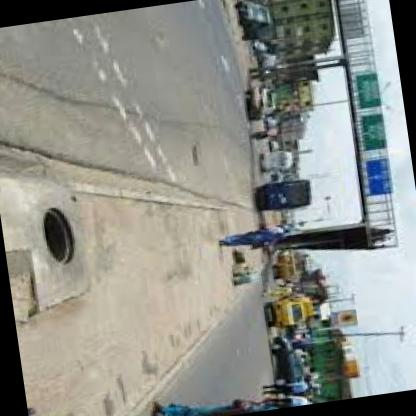manholes: (15, 186, 98, 286), (176, 130, 212, 178)
